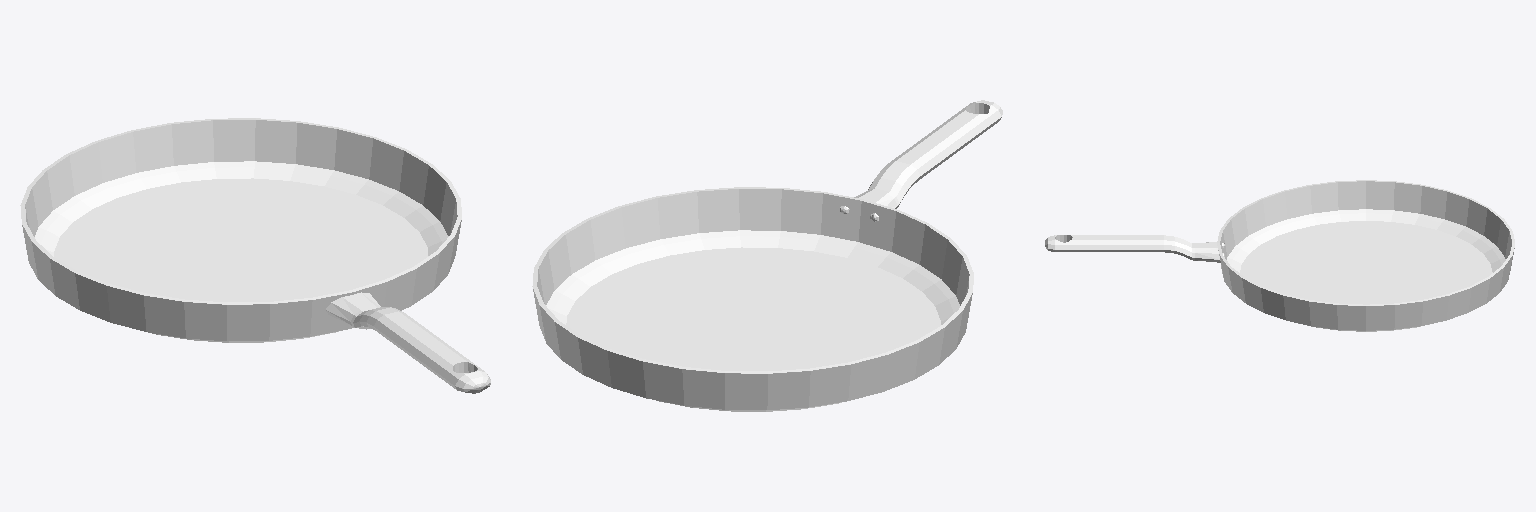
URDF robot description (pan):
<?xml version="1.0"?>
<robot name="pan">
  <material name="FryPan.001">
    <texture filename="visual/image0.png" />
    <color rgba="1 1 1 1" />
  </material>

  <link name="base_link">
    <inertial>
      <origin xyz="0 0 0" rpy="0 0 0" />
      <mass value="0.5" />
      <inertia ixx="0.001" ixy="0" ixz="0" iyy="0.001" iyz="0" izz="0.001" />
    </inertial>

    <visual>
      <origin xyz="0 -0.045 0" rpy="0 0 0" />
      <geometry>
        <mesh filename="visual/model_normalized_0.obj" scale="0.24 0.24 0.24" />
      </geometry>
      <material name="FryPan.001" />
    </visual>

    <collision>
      <origin xyz="0 -0.045 0" rpy="0 0 0" />
      <geometry>
        <mesh filename="collision/model_normalized_collision_22.obj" scale="0.24 0.24 0.24" />
      </geometry>
    </collision>
    <collision>
      <origin xyz="0 -0.045 0" rpy="0 0 0" />
      <geometry>
        <mesh filename="collision/model_normalized_collision_23.obj" scale="0.24 0.24 0.24" />
      </geometry>
    </collision>
    <collision>
      <origin xyz="0 -0.045 0" rpy="0 0 0" />
      <geometry>
        <mesh filename="collision/model_normalized_collision_21.obj" scale="0.24 0.24 0.24" />
      </geometry>
    </collision>
    <collision>
      <origin xyz="0 -0.045 0" rpy="0 0 0" />
      <geometry>
        <mesh filename="collision/model_normalized_collision_20.obj" scale="0.24 0.24 0.24" />
      </geometry>
    </collision>
    <collision>
      <origin xyz="0 -0.045 0" rpy="0 0 0" />
      <geometry>
        <mesh filename="collision/model_normalized_collision_24.obj" scale="0.24 0.24 0.24" />
      </geometry>
    </collision>
    <collision>
      <origin xyz="0 -0.045 0" rpy="0 0 0" />
      <geometry>
        <mesh filename="collision/model_normalized_collision_30.obj" scale="0.24 0.24 0.24" />
      </geometry>
    </collision>
    <collision>
      <origin xyz="0 -0.045 0" rpy="0 0 0" />
      <geometry>
        <mesh filename="collision/model_normalized_collision_18.obj" scale="0.24 0.24 0.24" />
      </geometry>
    </collision>
    <collision>
      <origin xyz="0 -0.045 0" rpy="0 0 0" />
      <geometry>
        <mesh filename="collision/model_normalized_collision_19.obj" scale="0.24 0.24 0.24" />
      </geometry>
    </collision>
    <collision>
      <origin xyz="0 -0.045 0" rpy="0 0 0" />
      <geometry>
        <mesh filename="collision/model_normalized_collision_31.obj" scale="0.24 0.24 0.24" />
      </geometry>
    </collision>
    <collision>
      <origin xyz="0 -0.045 0" rpy="0 0 0" />
      <geometry>
        <mesh filename="collision/model_normalized_collision_25.obj" scale="0.24 0.24 0.24" />
      </geometry>
    </collision>
    <collision>
      <origin xyz="0 -0.045 0" rpy="0 0 0" />
      <geometry>
        <mesh filename="collision/model_normalized_collision_27.obj" scale="0.24 0.24 0.24" />
      </geometry>
    </collision>
    <collision>
      <origin xyz="0 -0.045 0" rpy="0 0 0" />
      <geometry>
        <mesh filename="collision/model_normalized_collision_26.obj" scale="0.24 0.24 0.24" />
      </geometry>
    </collision>
    <collision>
      <origin xyz="0 -0.045 0" rpy="0 0 0" />
      <geometry>
        <mesh filename="collision/model_normalized_collision_9.obj" scale="0.24 0.24 0.24" />
      </geometry>
    </collision>
    <collision>
      <origin xyz="0 -0.045 0" rpy="0 0 0" />
      <geometry>
        <mesh filename="collision/model_normalized_collision_8.obj" scale="0.24 0.24 0.24" />
      </geometry>
    </collision>
    <collision>
      <origin xyz="0 -0.045 0" rpy="0 0 0" />
      <geometry>
        <mesh filename="collision/model_normalized_collision_6.obj" scale="0.24 0.24 0.24" />
      </geometry>
    </collision>
    <collision>
      <origin xyz="0 -0.045 0" rpy="0 0 0" />
      <geometry>
        <mesh filename="collision/model_normalized_collision_7.obj" scale="0.24 0.24 0.24" />
      </geometry>
    </collision>
    <collision>
      <origin xyz="0 -0.045 0" rpy="0 0 0" />
      <geometry>
        <mesh filename="collision/model_normalized_collision_5.obj" scale="0.24 0.24 0.24" />
      </geometry>
    </collision>
    <collision>
      <origin xyz="0 -0.045 0" rpy="0 0 0" />
      <geometry>
        <mesh filename="collision/model_normalized_collision_4.obj" scale="0.24 0.24 0.24" />
      </geometry>
    </collision>
    <collision>
      <origin xyz="0 -0.045 0" rpy="0 0 0" />
      <geometry>
        <mesh filename="collision/model_normalized_collision_0.obj" scale="0.24 0.24 0.24" />
      </geometry>
    </collision>
    <collision>
      <origin xyz="0 -0.045 0" rpy="0 0 0" />
      <geometry>
        <mesh filename="collision/model_normalized_collision_1.obj" scale="0.24 0.24 0.24" />
      </geometry>
    </collision>
    <collision>
      <origin xyz="0 -0.045 0" rpy="0 0 0" />
      <geometry>
        <mesh filename="collision/model_normalized_collision_3.obj" scale="0.24 0.24 0.24" />
      </geometry>
    </collision>
    <collision>
      <origin xyz="0 -0.045 0" rpy="0 0 0" />
      <geometry>
        <mesh filename="collision/model_normalized_collision_2.obj" scale="0.24 0.24 0.24" />
      </geometry>
    </collision>
    <collision>
      <origin xyz="0 -0.045 0" rpy="0 0 0" />
      <geometry>
        <mesh filename="collision/model_normalized_collision_17.obj" scale="0.24 0.24 0.24" />
      </geometry>
    </collision>
    <collision>
      <origin xyz="0 -0.045 0" rpy="0 0 0" />
      <geometry>
        <mesh filename="collision/model_normalized_collision_16.obj" scale="0.24 0.24 0.24" />
      </geometry>
    </collision>
    <collision>
      <origin xyz="0 -0.045 0" rpy="0 0 0" />
      <geometry>
        <mesh filename="collision/model_normalized_collision_28.obj" scale="0.24 0.24 0.24" />
      </geometry>
    </collision>
    <collision>
      <origin xyz="0 -0.045 0" rpy="0 0 0" />
      <geometry>
        <mesh filename="collision/model_normalized_collision_14.obj" scale="0.24 0.24 0.24" />
      </geometry>
    </collision>
    <collision>
      <origin xyz="0 -0.045 0" rpy="0 0 0" />
      <geometry>
        <mesh filename="collision/model_normalized_collision_15.obj" scale="0.24 0.24 0.24" />
      </geometry>
    </collision>
    <collision>
      <origin xyz="0 -0.045 0" rpy="0 0 0" />
      <geometry>
        <mesh filename="collision/model_normalized_collision_29.obj" scale="0.24 0.24 0.24" />
      </geometry>
    </collision>
    <collision>
      <origin xyz="0 -0.045 0" rpy="0 0 0" />
      <geometry>
        <mesh filename="collision/model_normalized_collision_11.obj" scale="0.24 0.24 0.24" />
      </geometry>
    </collision>
    <collision>
      <origin xyz="0 -0.045 0" rpy="0 0 0" />
      <geometry>
        <mesh filename="collision/model_normalized_collision_10.obj" scale="0.24 0.24 0.24" />
      </geometry>
    </collision>
    <collision>
      <origin xyz="0 -0.045 0" rpy="0 0 0" />
      <geometry>
        <mesh filename="collision/model_normalized_collision_12.obj" scale="0.24 0.24 0.24" />
      </geometry>
    </collision>
    <collision>
      <origin xyz="0 -0.045 0" rpy="0 0 0" />
      <geometry>
        <mesh filename="collision/model_normalized_collision_13.obj" scale="0.24 0.24 0.24" />
      </geometry>
    </collision>
  </link>
</robot>

--- Render facts (derived) ---
Views: 3 orthographic renders of the robot side by side, from view 1: azimuth 30°, elevation 25°; view 2: azimuth 150°, elevation 25°; view 3: azimuth 270°, elevation 25°.
Robot: pan — 1 links, 0 joints (none); root link base_link; default pose: every joint at zero.
Visible links, largest first — view 1: base_link; view 2: base_link; view 3: base_link.
Link boxes in pixels (box(x1,y1,x2,y2)): base_link: box(20, 118, 490, 393); base_link: box(532, 100, 1002, 411); base_link: box(1045, 180, 1514, 331).
Size in the robot's own frame: 0.1521 by 0.24 by 0.0226 metres.
1 mesh visuals loaded from 1 distinct referenced files (1 OBJ).